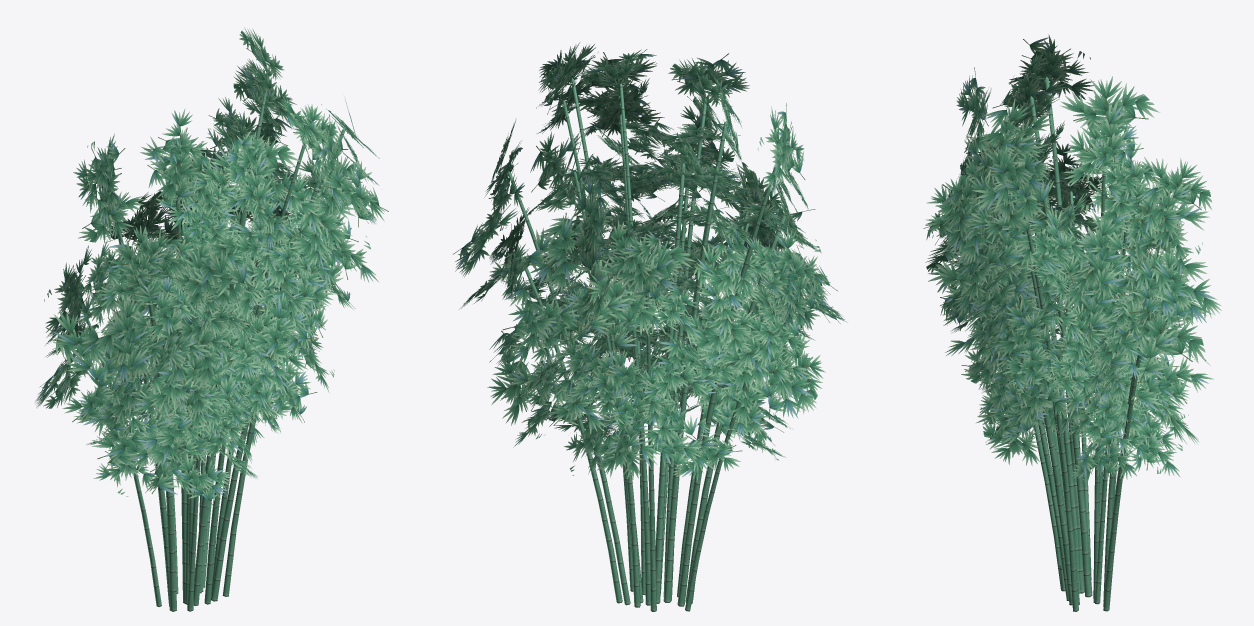
The model's file is Tree_Bamboo.glb.
3 renders of one model, left to right at view 1: azimuth 30°, elevation 25°; view 2: azimuth 150°, elevation 25°; view 3: azimuth 270°, elevation 25°, orthographic. The views are drawn at different scales.
Visible parts, largest first — view 1: Tree_Bamboo; view 2: Tree_Bamboo; view 3: Tree_Bamboo.
Part boxes in pixels (x1=…): Tree_Bamboo: x1=35, y1=27, x2=388, y2=611; Tree_Bamboo: x1=453, y1=42, x2=847, y2=611; Tree_Bamboo: x1=923, y1=34, x2=1221, y2=611.
Size of the model in its own units: 13.58 by 20.47 by 10.92.
2 materials, 2 textured.
